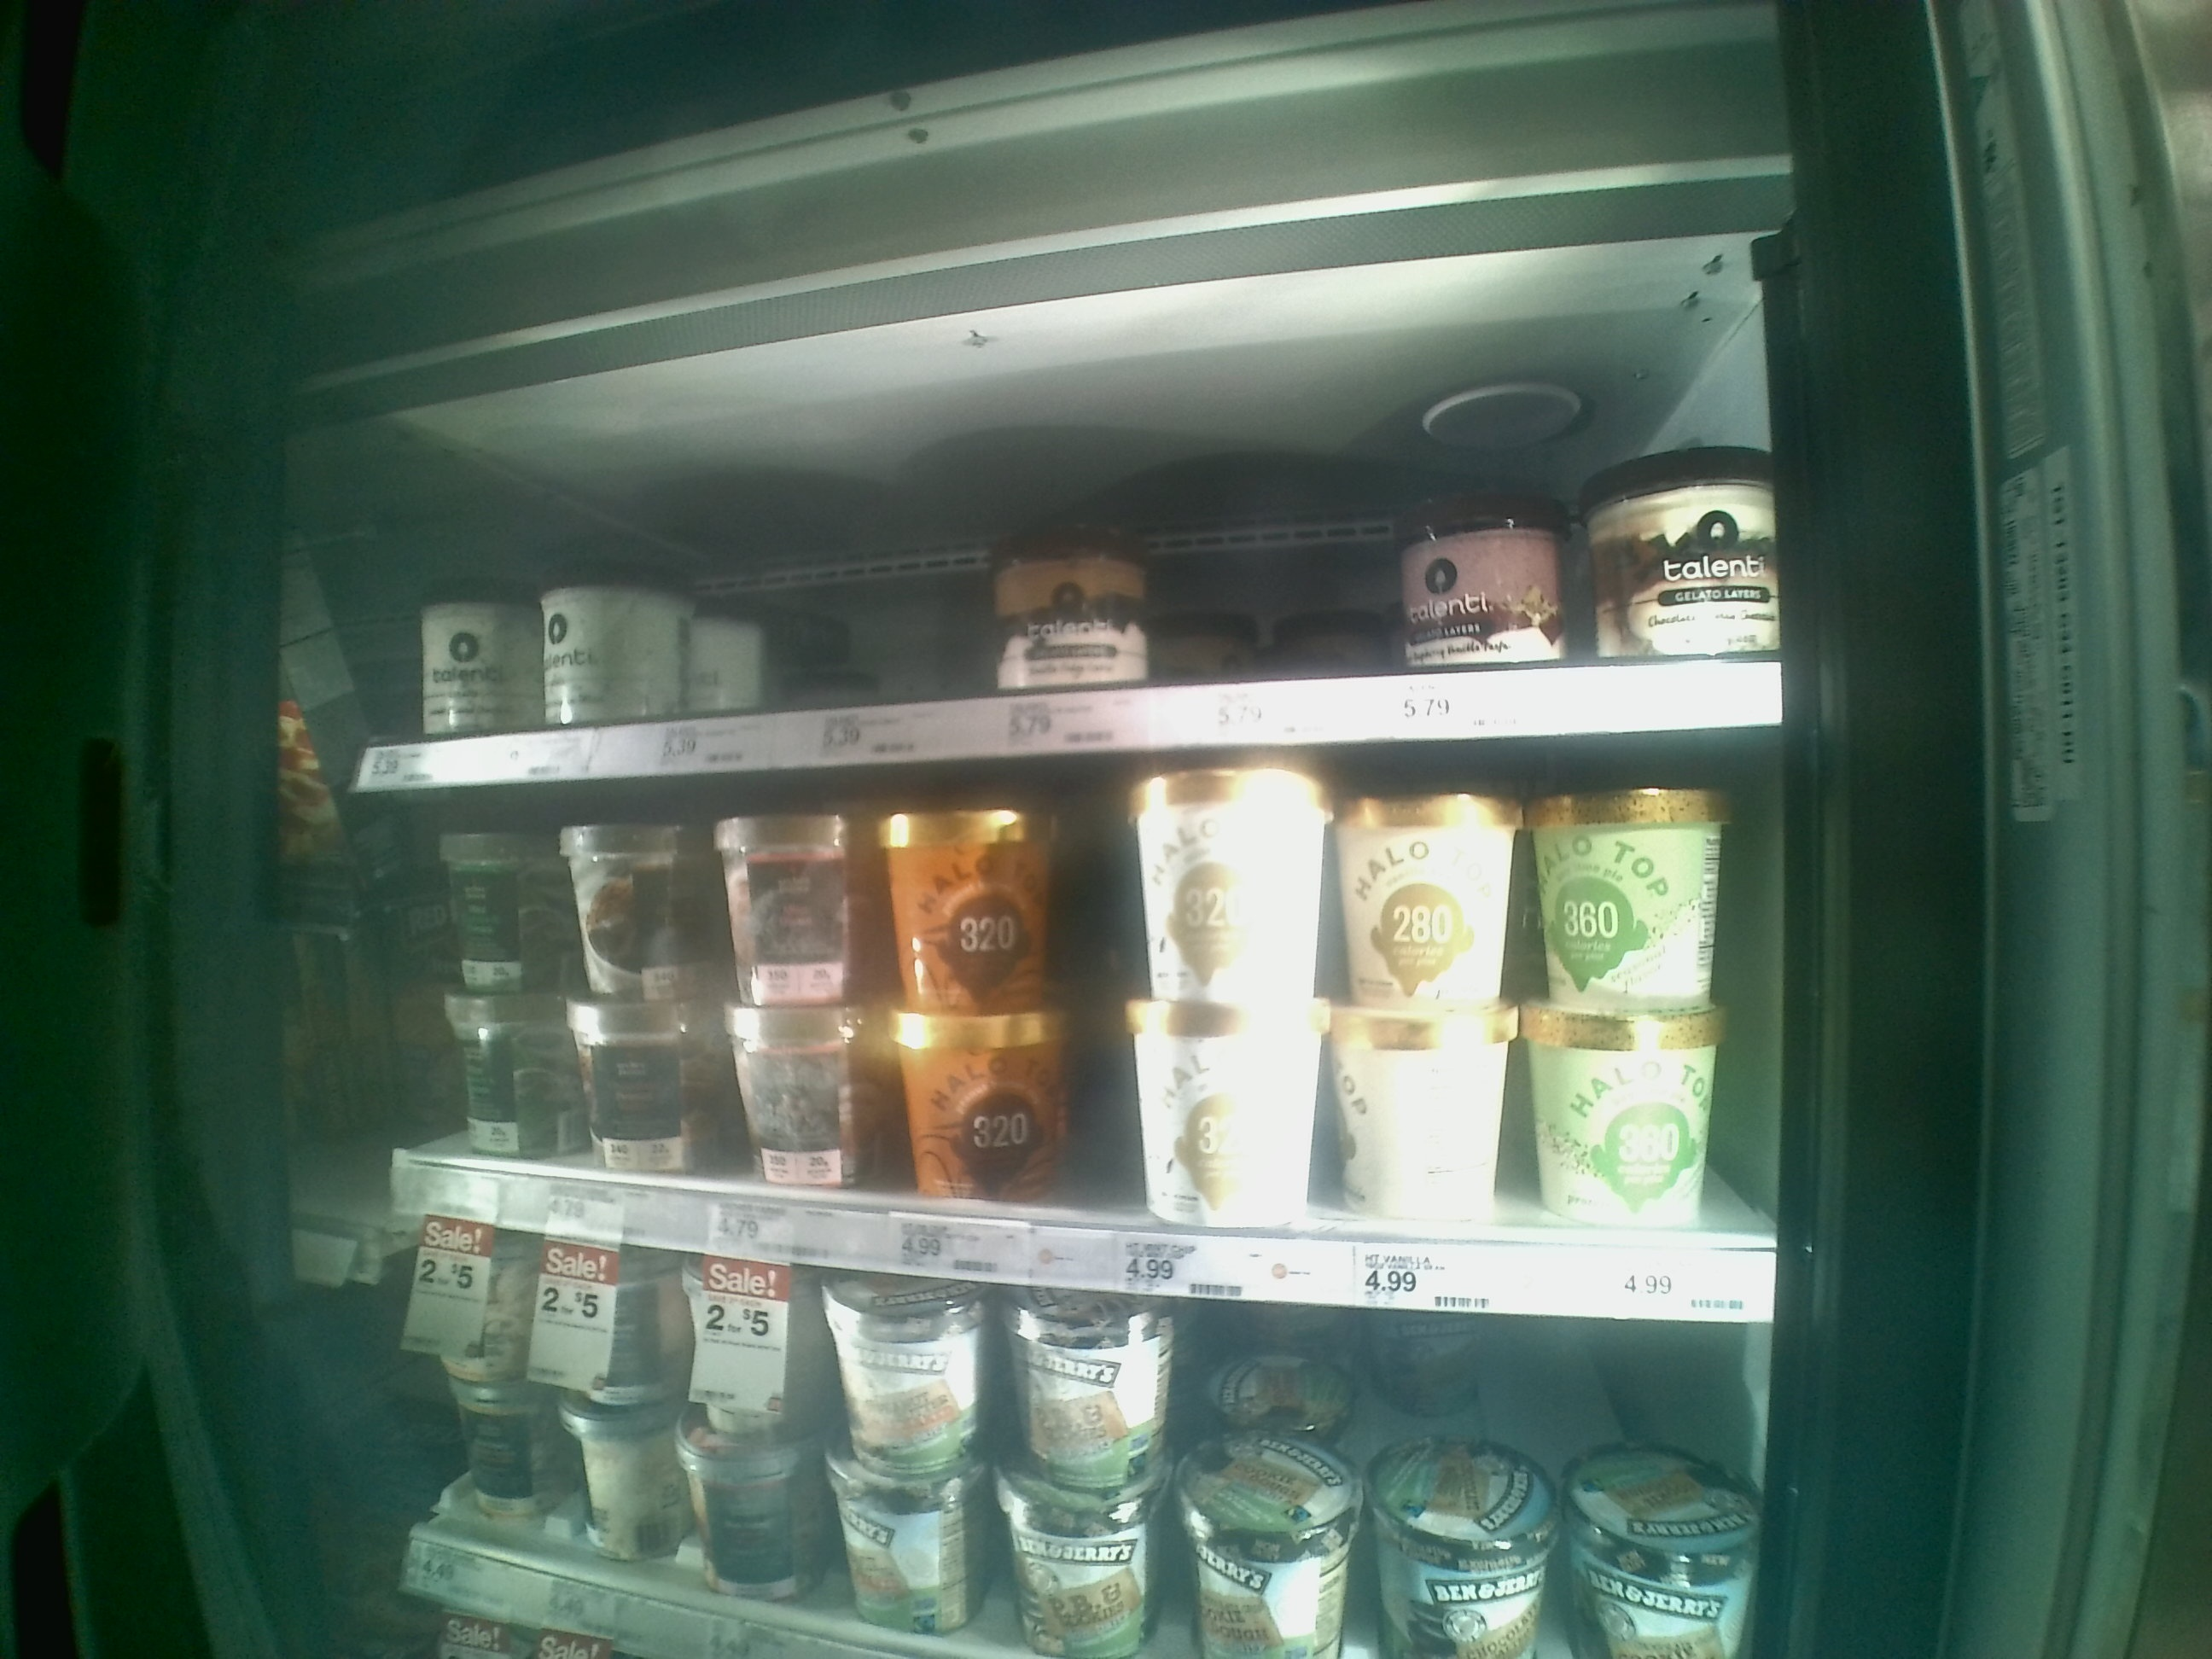shelf: (366, 727, 1787, 1321), (314, 375, 1780, 791)
